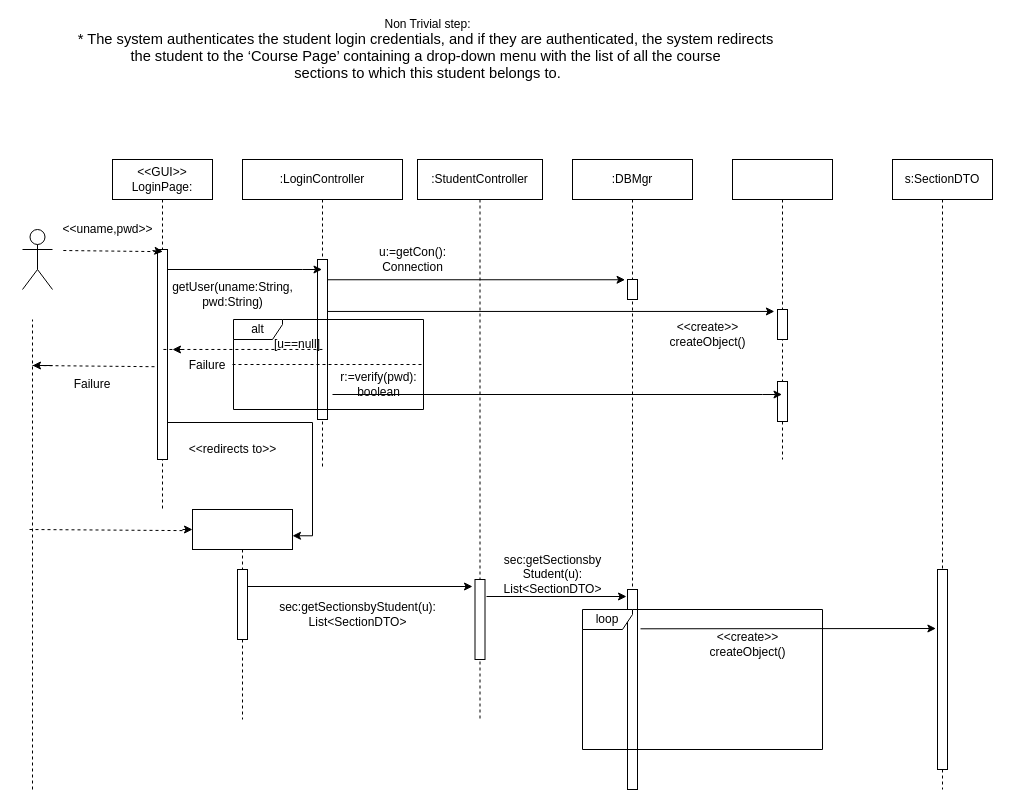
Image size: 1010x808. Some labels were removed from this diagram. The shapes that lost their labels are listed below. From the top down, each one's centre as x and y in pixels, then its label:
the point at 37,259: Student
the point at 782,309: u:UserDTO
the point at 242,614: <<GUI>> :CoursePage
